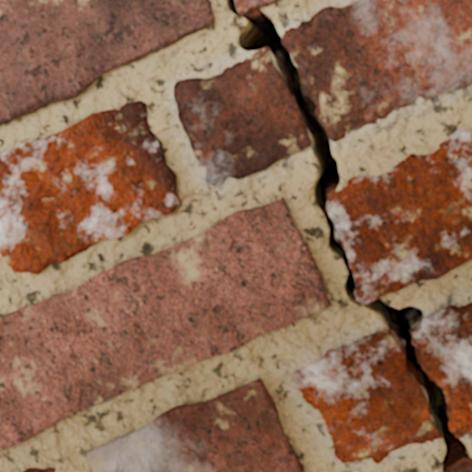brick: (0, 199, 329, 449), (0, 101, 180, 273), (0, 0, 213, 124), (327, 129, 471, 303), (87, 379, 302, 471), (236, 0, 277, 13), (450, 459, 471, 471), (24, 468, 54, 471)
broken_brick: (282, 0, 471, 142), (291, 328, 440, 464), (173, 50, 310, 187), (412, 302, 471, 437)
crack: (224, 0, 470, 471), (223, 174, 230, 181)
